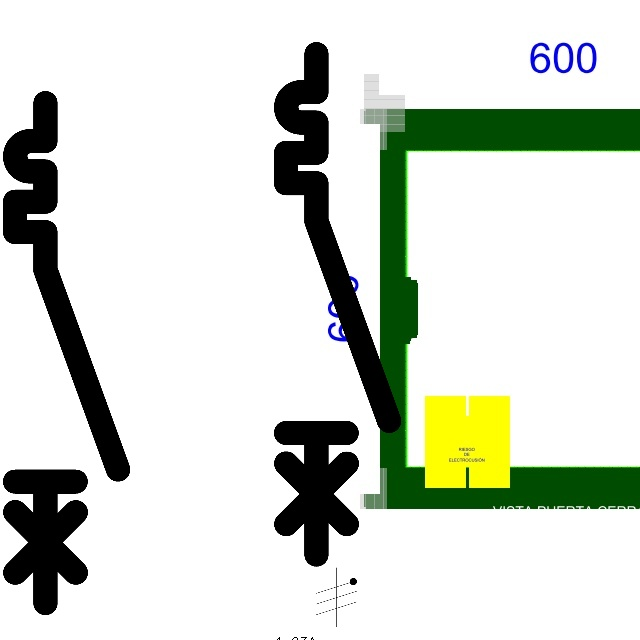interruptor_termomagnetico: (273, 41, 402, 568), (2, 90, 130, 615)
